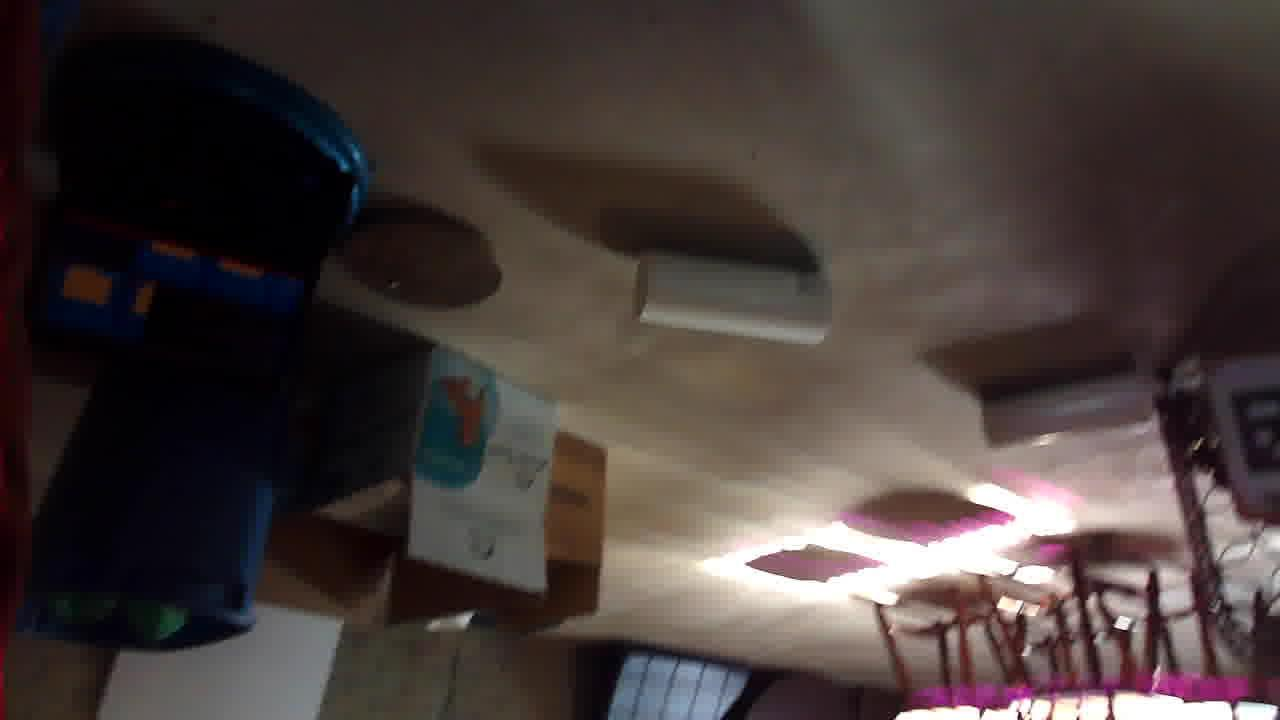coral: (447, 374, 645, 466), (133, 271, 298, 347)
